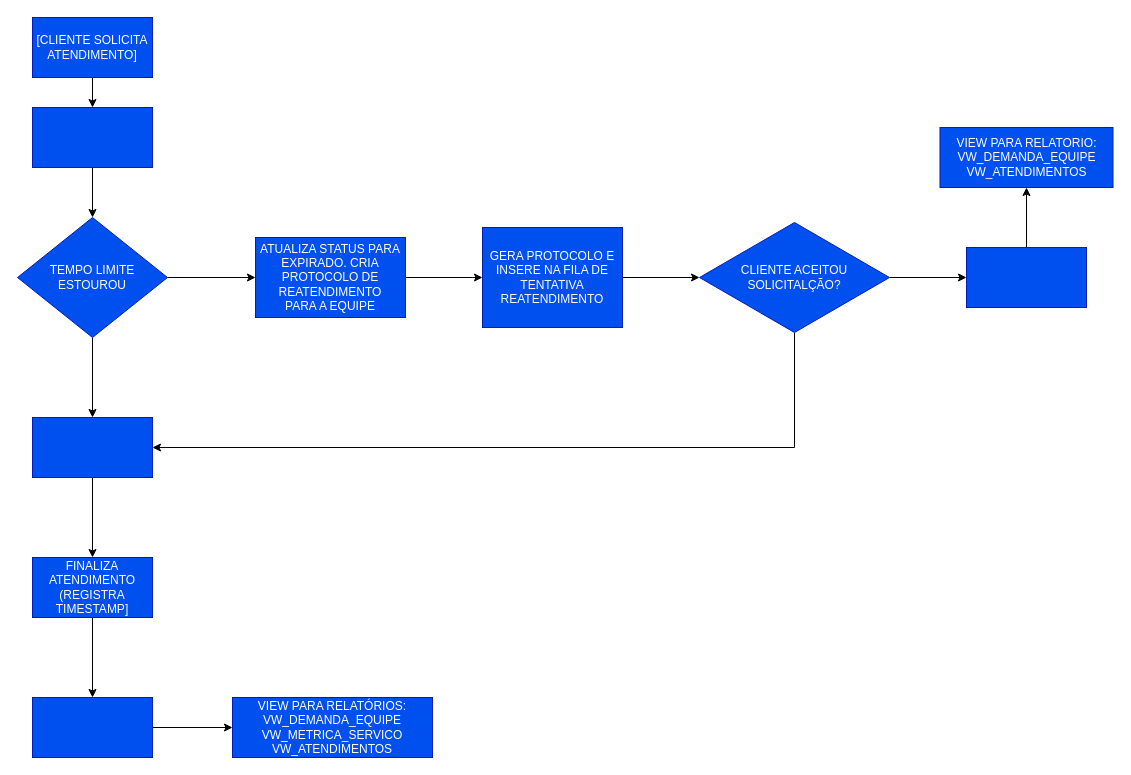
Some shapes in this 1131 by 775 pixel diagram are drawn without their labels. Each missing label, with the box of its shape:
ATENDENTE ASSUME, STATUS: ATENDIMENTO: (32, 416, 152, 478)
ATUALIZA STATUS: CANCELADO: (966, 246, 1086, 308)
COLETA DE AVALIAÇÃO [FEEDBACK ATENDIMENTO]: (32, 696, 152, 758)
GERA PROTOCOLO E INSERE NA FILA: (32, 106, 152, 168)
